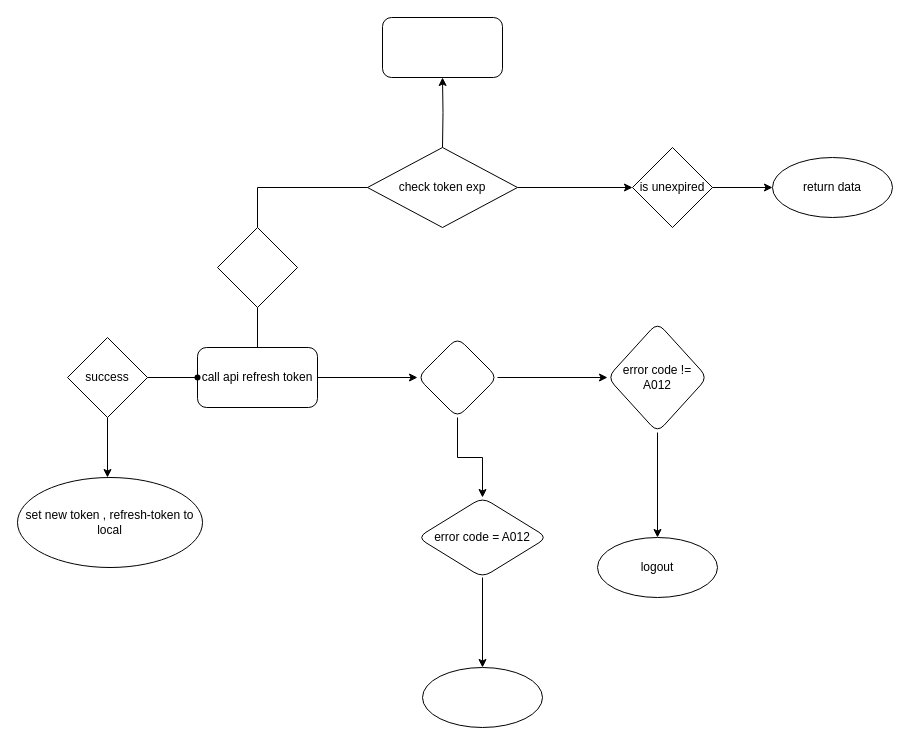
The diagram is 910 pixels wide and 745 high, and some of its shapes have lost their labels. The centre of each missing label's shape, as x and y in pixels:
"call-api" goes at (442,47).
"fail" goes at (457,377).
"is expired" goes at (257,267).
"no action, new token has set to local" goes at (482,697).
